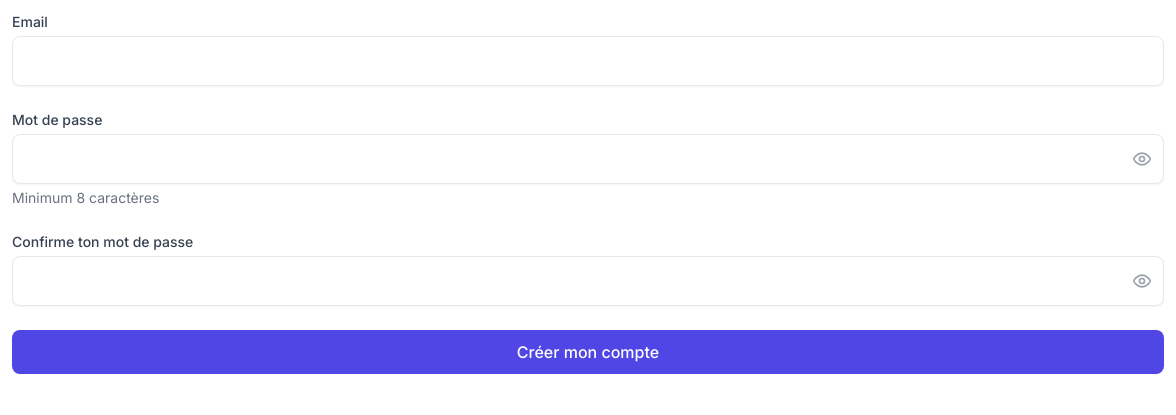
Test: AuthForm › register mode › should show validation error for invalid email
Type "invalid" into the field labelled "Email" at (588, 61), box [12, 36, 1164, 86]
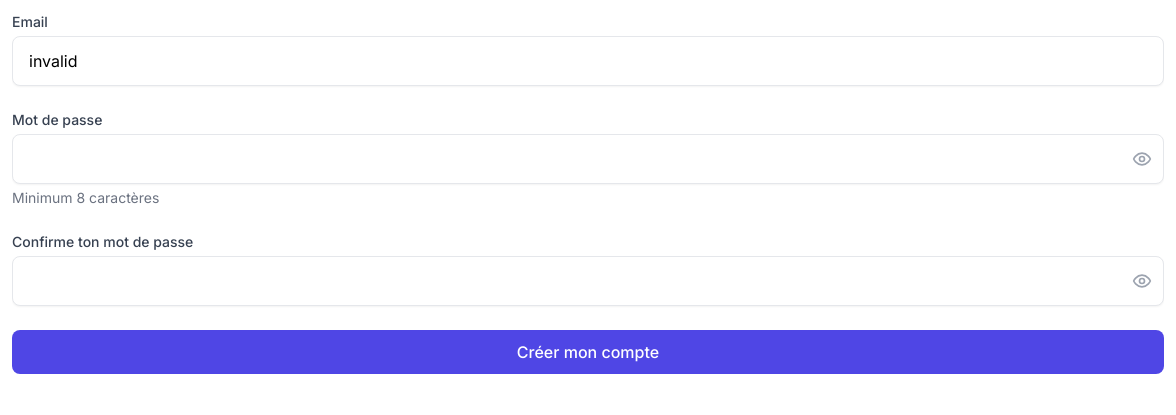
Leave the field labelled "Email", box [12, 36, 1164, 86]
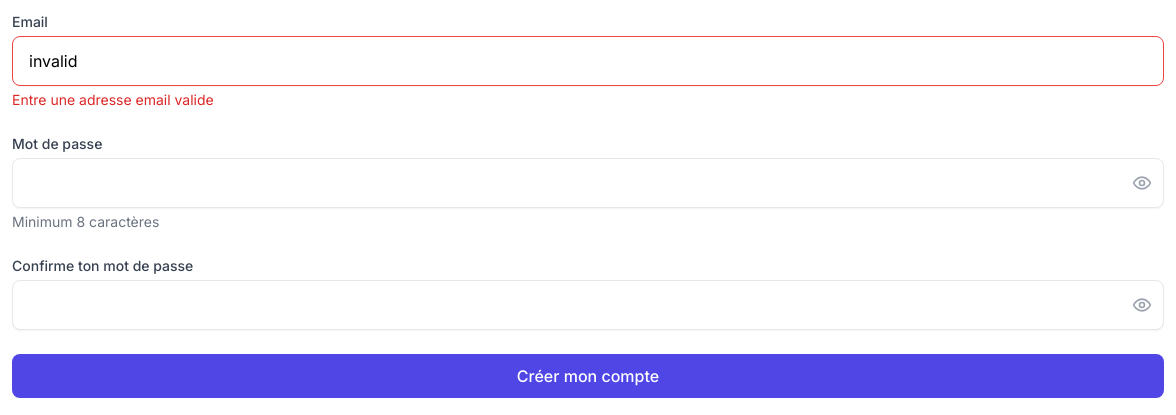
Check: the text "Entre une adresse email valide" is shown, box [12, 91, 214, 108]
